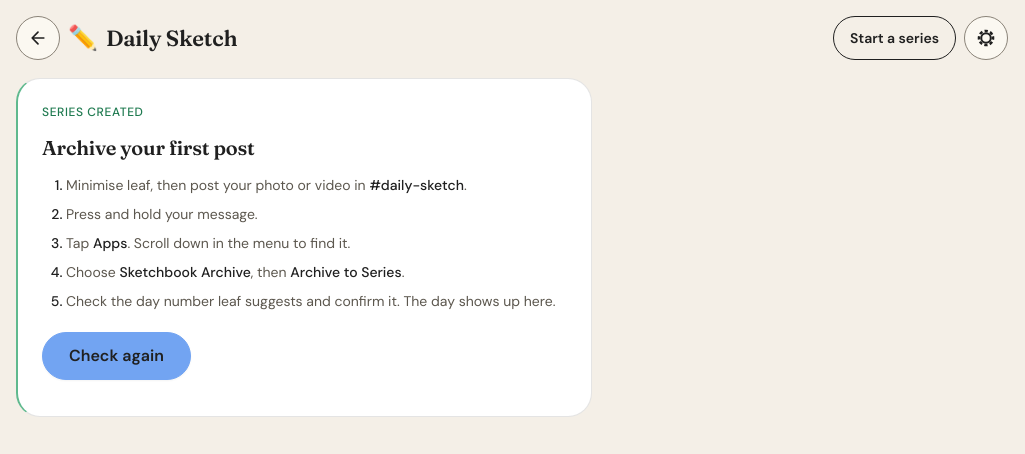
Test case: Home › shows the owner how to archive the first post, worded for phones
Expected: the text "Series created" is shown, [42,104,144,120]
Expected: the heading "Archive your first post" is shown, [42,135,255,160]
Click the button "Check again" at {"x": 116, "y": 356}, box [42,332,191,380]
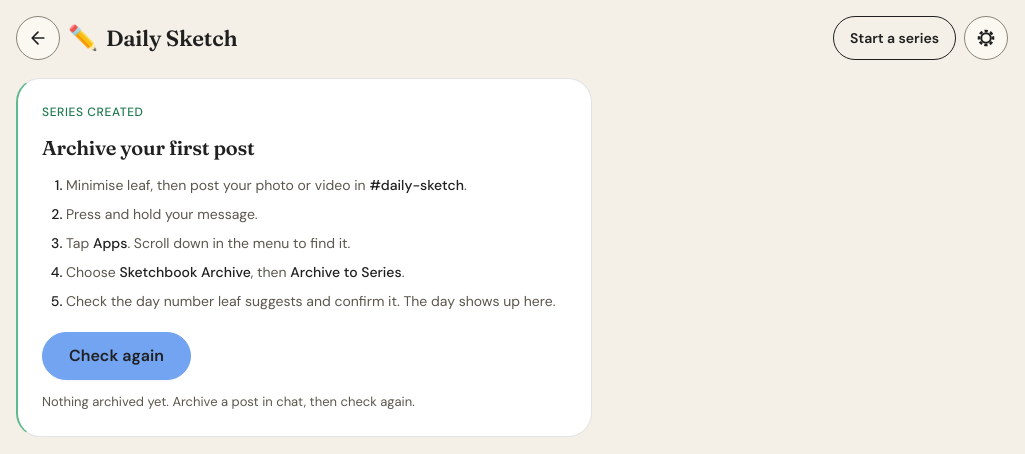
Expected: the text "Nothing archived yet. Archive a post in chat, then check again." is shown, [42,393,415,410]
